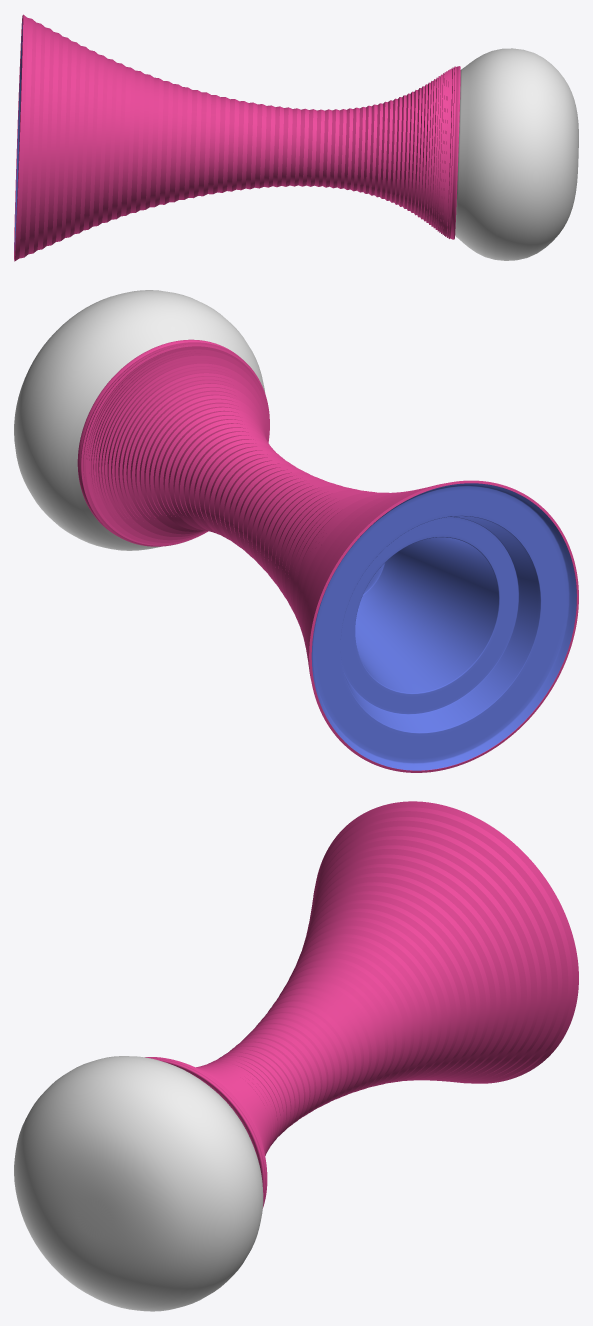
The model's file is parfum1_t.fbx.
3 views of the same model, one above another, from view 1: azimuth 30°, elevation 25°; view 2: azimuth 150°, elevation 25°; view 3: azimuth 270°, elevation 25° (orthographic). The views are drawn at different scales.
Visible parts, largest first — view 1: dior-j'adore.002; view 2: dior-j'adore.002; view 3: dior-j'adore.002.
Boxes of the visible parts, x1,y1,x2,y2 form: dior-j'adore.002: (14, 14, 578, 261); dior-j'adore.002: (14, 290, 578, 772); dior-j'adore.002: (14, 801, 578, 1311).
Size of the model in its own units: 14.9 by 6.46 by 11.87.
